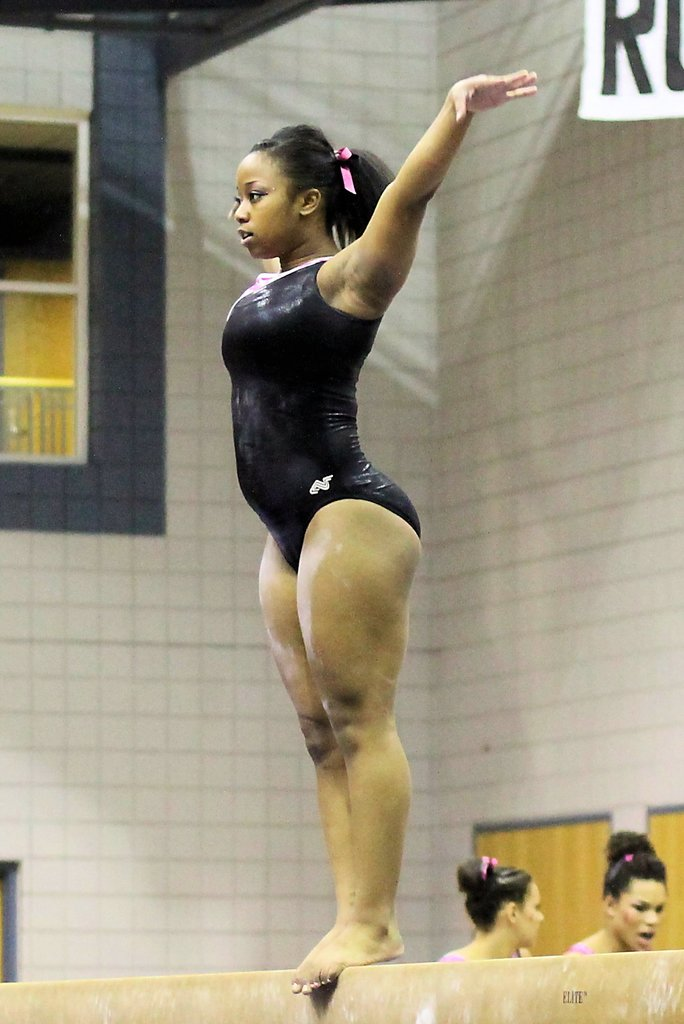Human-face: (235, 156, 300, 254)
